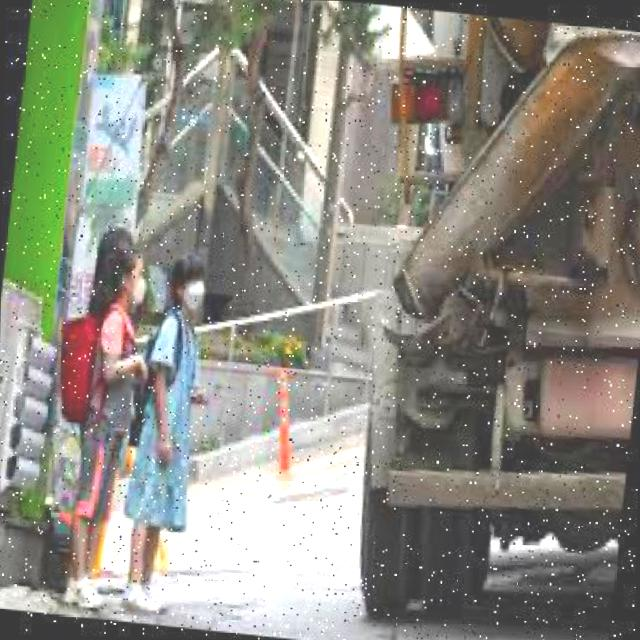Person: (39, 242, 150, 610), (116, 249, 215, 618)
